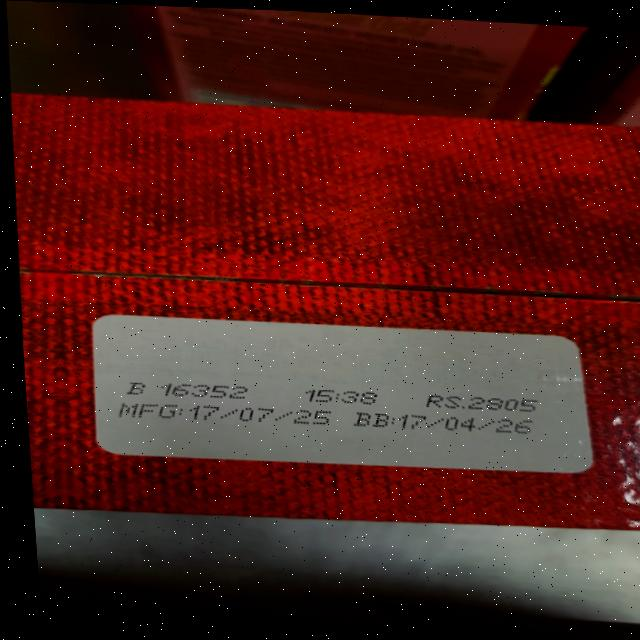BB: (357, 410, 541, 437)
Batch: (123, 380, 254, 401)
MFG: (119, 400, 333, 429)
RS: (424, 393, 546, 414)
TimeStamp: (301, 387, 381, 405)
